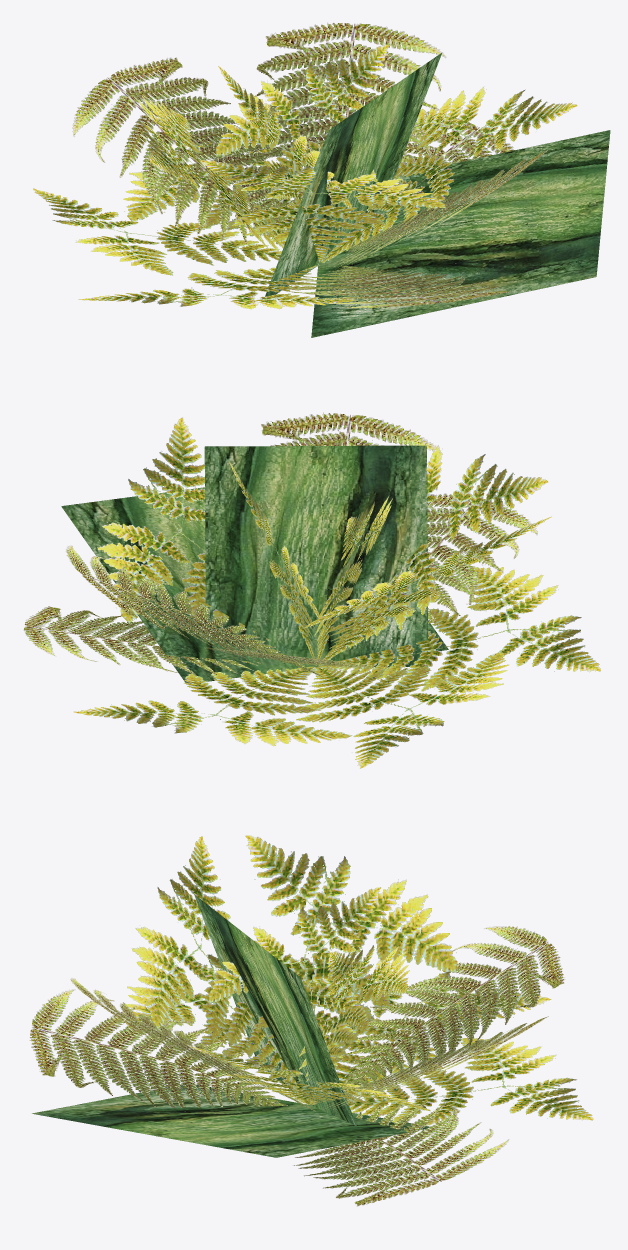
The model's file is freern.obj.
3 views of the same model, one above another, from view 1: azimuth 30°, elevation 25°; view 2: azimuth 150°, elevation 25°; view 3: azimuth 270°, elevation 25° (orthographic).
Parts seen in each view (by area): view 1: Plant1; view 2: Plant1; view 3: Plant1.
Boxes of the visible parts, x1,y1,x2,y2 form: Plant1: [33, 22, 610, 337]; Plant1: [24, 412, 600, 768]; Plant1: [29, 835, 593, 1206].
Size of the model in its own units: 192 by 72.69 by 175.
1 material, 1 textured.
